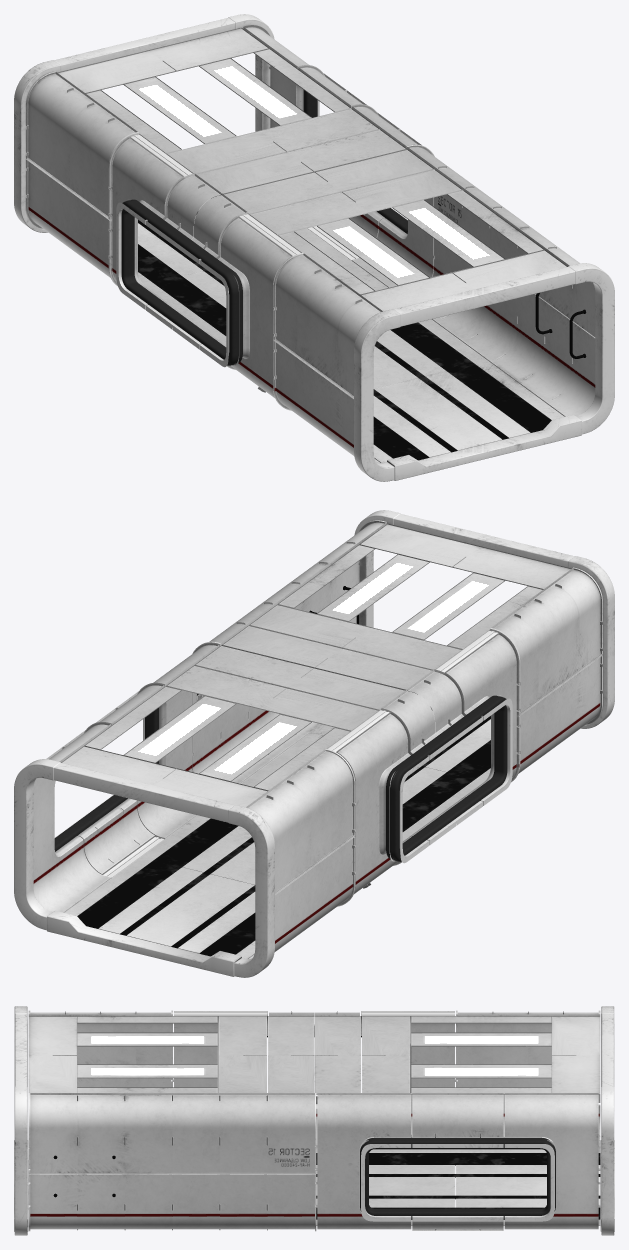
The model's file is CorridorModule_1.fbx.
3 renders of one model, top to bottom at view 1: azimuth 30°, elevation 25°; view 2: azimuth 150°, elevation 25°; view 3: azimuth 270°, elevation 25°, orthographic. The views are drawn at different scales.
Visible parts, largest first — view 1: Roof, WALL_B, WALL_A, BORDER, Floor, LightsFloor, WINDOW_FRAME, FloorLight2; view 2: Roof, WALL_B, WALL_A, BORDER, Floor, LightsFloor, WINDOW_FRAME, FloorLight2; view 3: WALL_A, Roof, WALL_B, Floor, BORDER, LightsFloor, WINDOW_FRAME, FloorLight2.
Part boxes in pixels (box(x1,y1,x2,y2)): Roof: box(57, 27, 567, 311); WALL_B: box(26, 71, 382, 462); WALL_A: box(243, 25, 595, 416); BORDER: box(14, 14, 614, 481); Floor: box(138, 199, 564, 462); LightsFloor: box(138, 194, 551, 460); WINDOW_FRAME: box(121, 90, 407, 365); FloorLight2: box(131, 134, 358, 260); Roof: box(61, 523, 571, 807); WALL_B: box(246, 567, 602, 958); WALL_A: box(33, 520, 386, 912); BORDER: box(14, 510, 614, 977); Floor: box(64, 695, 490, 958); LightsFloor: box(77, 690, 490, 956); WINDOW_FRAME: box(54, 695, 507, 861); FloorLight2: box(103, 630, 497, 878); WALL_A: box(28, 1093, 600, 1231); Roof: box(28, 1016, 600, 1094); WALL_B: box(28, 1010, 600, 1147); Floor: box(28, 1148, 600, 1225); BORDER: box(14, 1006, 614, 1235); LightsFloor: box(316, 1153, 600, 1219); WINDOW_FRAME: box(267, 1026, 555, 1219); FloorLight2: box(174, 1012, 454, 1015).
Size of the model in its own units: 58.91 by 32.79 by 125.
Materials: 10 (10 with a texture image).
